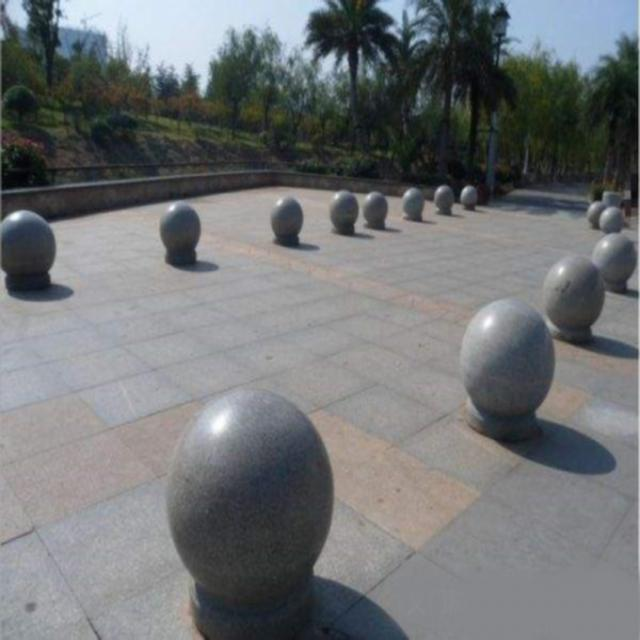spherical_roadblock: (163, 388, 334, 628), (456, 296, 554, 432), (542, 252, 605, 340), (0, 206, 57, 294), (156, 197, 200, 267), (591, 231, 637, 291), (268, 193, 304, 244), (326, 186, 359, 234), (361, 189, 388, 230), (400, 186, 425, 220), (432, 183, 454, 216), (460, 182, 479, 212)
